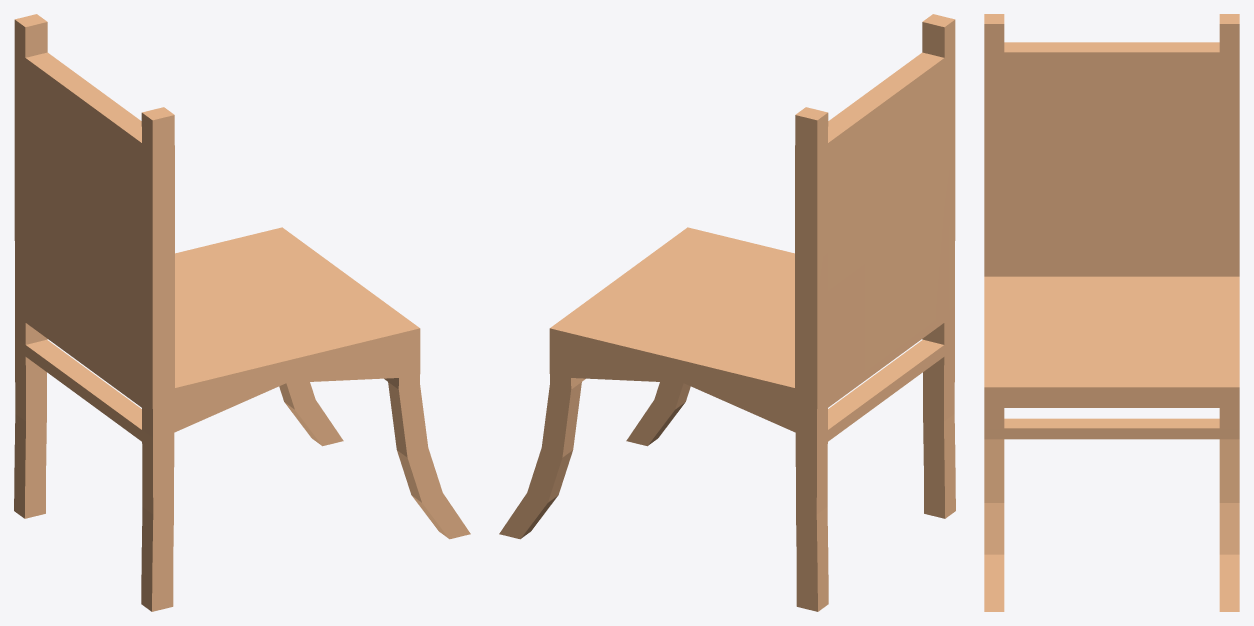
File: Chair.glb
The picture shows the model from 3 angles, left to right: view 1: azimuth 30°, elevation 25°; view 2: azimuth 150°, elevation 25°; view 3: azimuth 270°, elevation 25°; orthographic projection. The views are drawn at different scales.
Parts seen in each view (by area): view 1: Cube_Cube.001; view 2: Cube_Cube.001; view 3: Cube_Cube.001.
Boxes of the visible parts, x1,y1,x2,y2 form: Cube_Cube.001: [14, 14, 470, 611]; Cube_Cube.001: [499, 14, 955, 611]; Cube_Cube.001: [984, 14, 1239, 611].
Bounding box in the file's own units: 1.73 × 2.55 × 1.3.
